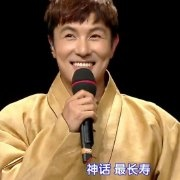Mask: (58, 24, 119, 85)
